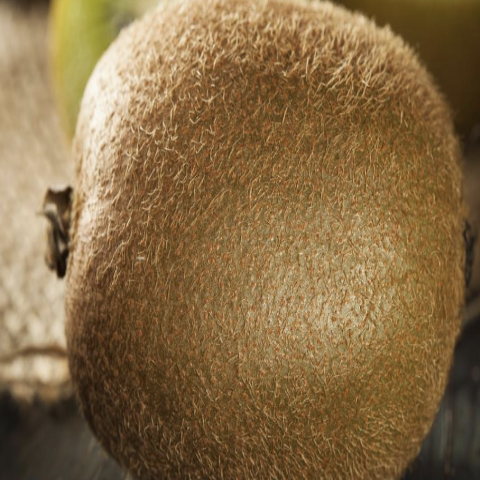kiwi: (21, 0, 480, 479)
